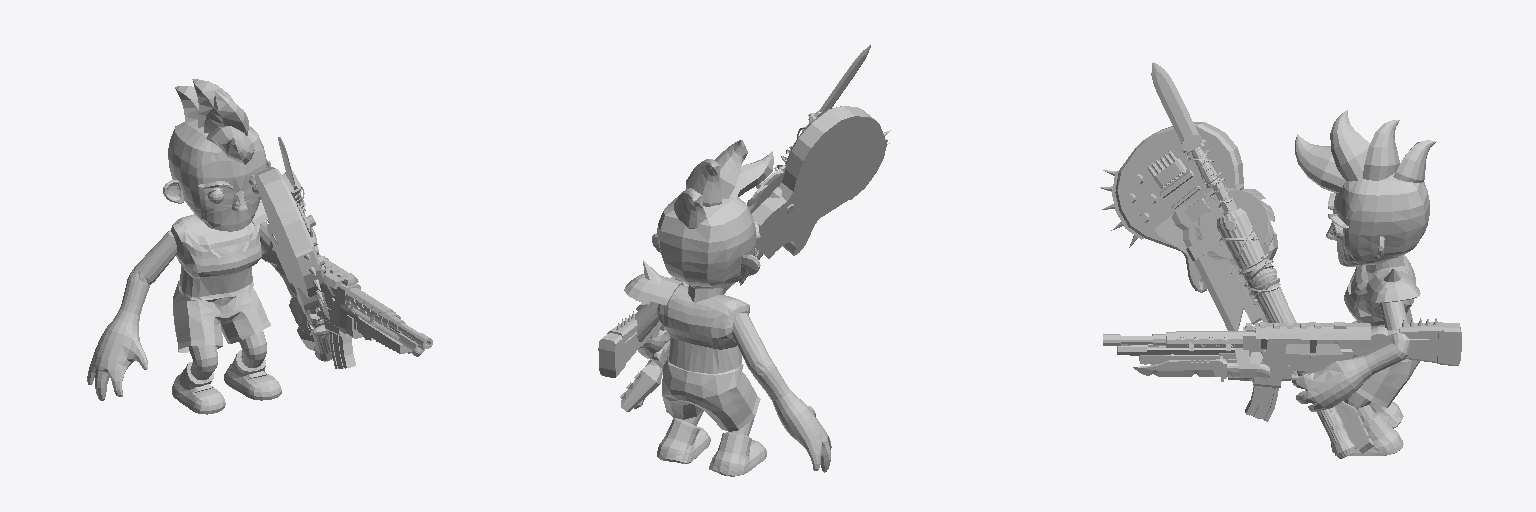
File: Characters_Lis.obj
3 views of the same model, side by side, from view 1: azimuth 30°, elevation 25°; view 2: azimuth 150°, elevation 25°; view 3: azimuth 270°, elevation 25° (orthographic).
Parts seen in each view (by area): view 1: Lis_Cube.004, Guitar_Cube.008, Rifle_Cube.010, SMG_Cube.064, Shotgun_Cube.002, Pistol_Cube.007, Spear_Cylinder.027; view 2: Lis_Cube.004, Guitar_Cube.008, Rifle_Cube.010, Shoulder_Cube.005, Spear_Cylinder.027, WoodenBat_Saw_CUBezierCurve.001; view 3: Lis_Cube.004, Guitar_Cube.008, Rifle_Cube.010, WoodenBat_Saw_CUBezierCurve.001, SMG_Cube.064, Pistol_Cube.007, Axe_Cylinder.014, Spear_Cylinder.027, WoodenBat_Barbed_Cylinder.005, Shoulder_Cube.005, Shotgun_Cube.002.
Part boxes in pixels (left/top/right/bottom): Lis_Cube.004: left=87, top=79, right=329, bottom=414; Guitar_Cube.008: left=255, top=167, right=325, bottom=350; Rifle_Cube.010: left=261, top=221, right=432, bottom=368; SMG_Cube.064: left=272, top=247, right=405, bottom=336; Shotgun_Cube.002: left=289, top=297, right=424, bottom=353; Pistol_Cube.007: left=293, top=297, right=421, bottom=356; Spear_Cylinder.027: left=278, top=137, right=305, bottom=214; Lis_Cube.004: left=635, top=140, right=831, bottom=476; Guitar_Cube.008: left=620, top=106, right=890, bottom=411; Rifle_Cube.010: left=598, top=278, right=682, bottom=377; Shoulder_Cube.005: left=624, top=260, right=683, bottom=305; Spear_Cylinder.027: left=645, top=44, right=870, bottom=366; WoodenBat_Saw_CUBezierCurve.001: left=634, top=164, right=794, bottom=408; Lis_Cube.004: left=1292, top=110, right=1435, bottom=455; Guitar_Cube.008: left=1100, top=122, right=1375, bottom=453; Rifle_Cube.010: left=1103, top=318, right=1461, bottom=421; WoodenBat_Saw_CUBezierCurve.001: left=1194, top=183, right=1354, bottom=458; SMG_Cube.064: left=1152, top=322, right=1370, bottom=387; Pistol_Cube.007: left=1133, top=342, right=1342, bottom=381; Axe_Cylinder.014: left=1172, top=196, right=1344, bottom=431; Spear_Cylinder.027: left=1151, top=62, right=1346, bottom=432; WoodenBat_Barbed_Cylinder.005: left=1217, top=208, right=1353, bottom=458; Shoulder_Cube.005: left=1366, top=268, right=1420, bottom=302; Shotgun_Cube.002: left=1117, top=344, right=1310, bottom=374.
Size of the model in its own units: 1.18 by 1.77 by 1.67.